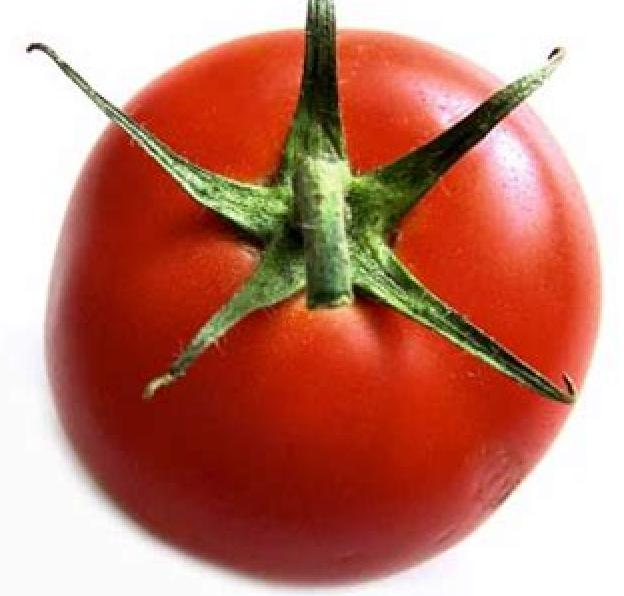tomato: (48, 30, 593, 583)
